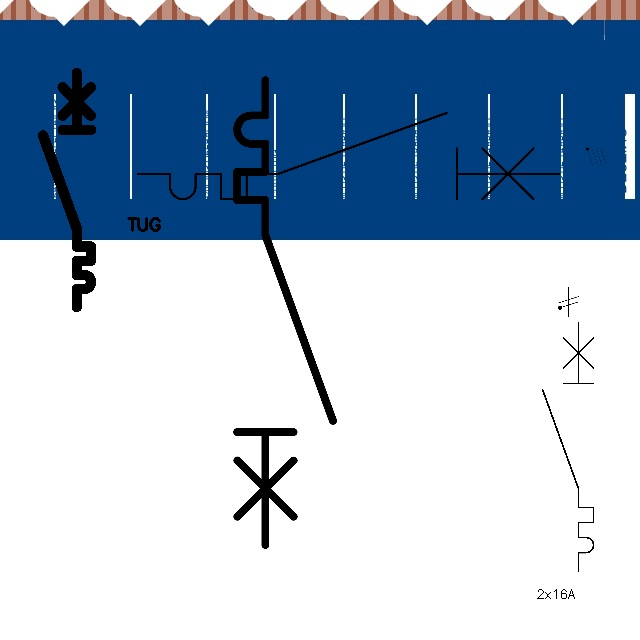interruptor_termomagnetico: (225, 68, 344, 557), (127, 102, 569, 210), (536, 316, 600, 578), (37, 67, 97, 313)
